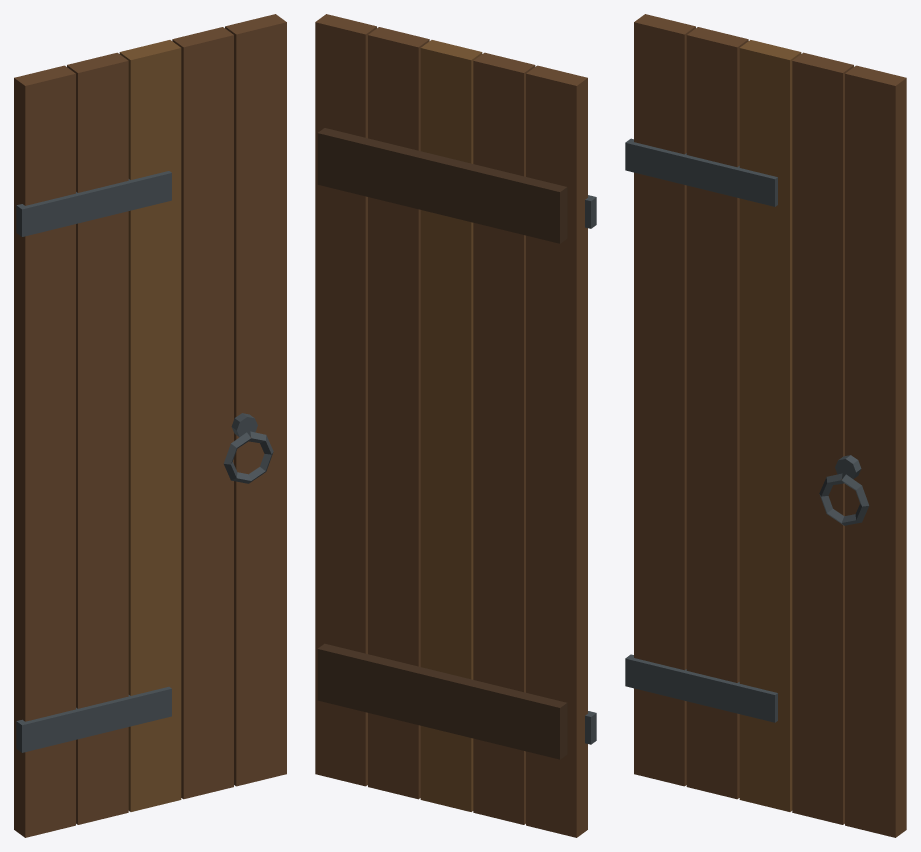
File: mdvl_village_door_plank_01.glb
3 views of the same model, side by side, from view 1: azimuth 30°, elevation 25°; view 2: azimuth 150°, elevation 25°; view 3: azimuth 330°, elevation 25° (orthographic).
Visible parts, largest first — view 1: mdvl_village_door_plank_01; view 2: mdvl_village_door_plank_01; view 3: mdvl_village_door_plank_01.
Boxes of the visible parts, x1=… form: mdvl_village_door_plank_01: x1=14, y1=14, x2=286, y2=837; mdvl_village_door_plank_01: x1=315, y1=14, x2=596, y2=837; mdvl_village_door_plank_01: x1=625, y1=14, x2=906, y2=837.
Bounding box in the file's own units: 0.759 × 2.04 × 0.135.
1 material, 1 textured.
